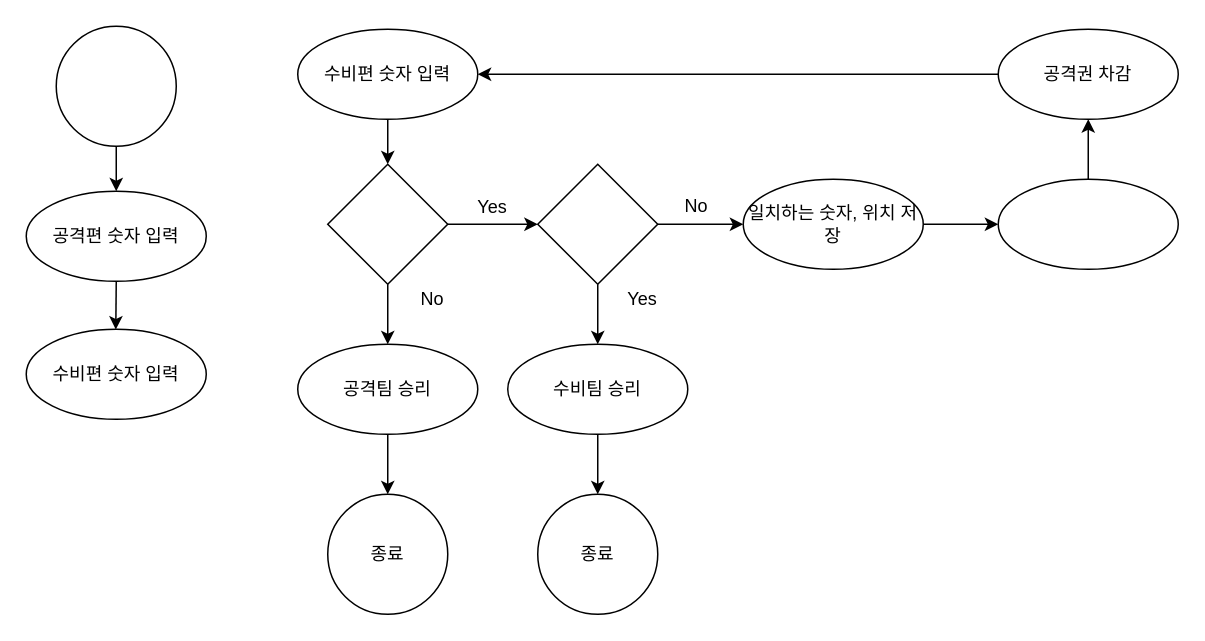
This 1205x641 diagram has some shape labels left out. The box of each missing label's shape, as (x1, y1, x2, y2) in pixels:
공격권 있는가?: (326, 163, 448, 284)
숫자가 옳은가?: (536, 163, 658, 284)
스트라이크, 볼 표시: (997, 178, 1178, 269)
시작: (55, 25, 176, 146)
